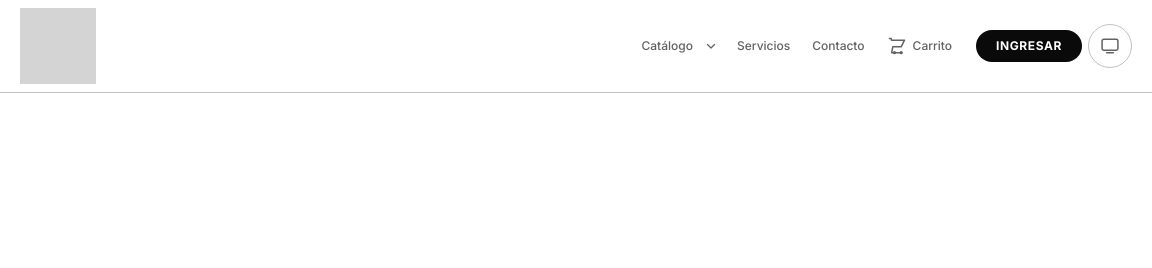
Test: cabecera · categorías sin ratón › Escape lo cierra y devuelve el foco al botón
Click the button named "Categorías del catálogo" at (711, 46), box [697,28,725,64]
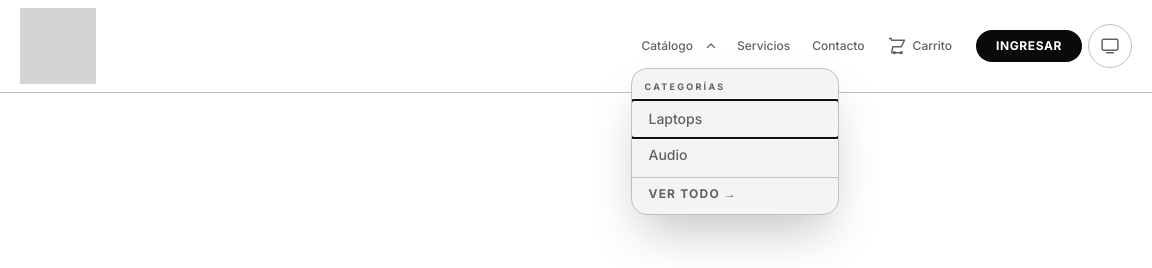
Press Escape
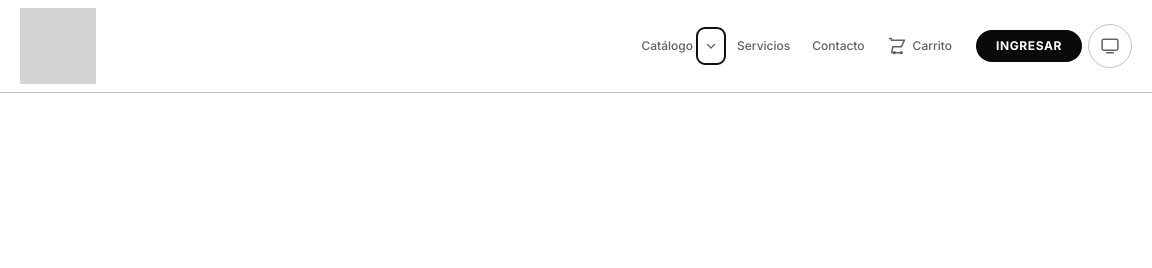
Expected: the element with id "store-catalog-menu" is gone
Expected: the button named "Categorías del catálogo" is collapsed, [697,28,725,64]
